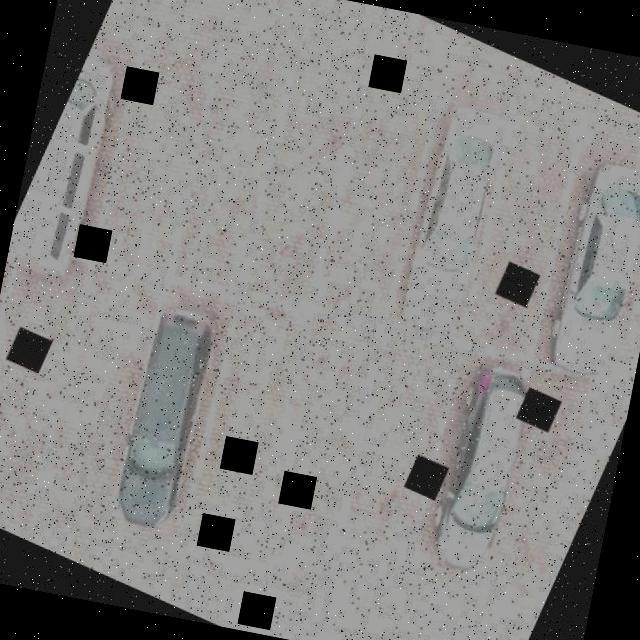space-empty: (53, 22, 260, 300), (200, 56, 405, 328), (272, 74, 473, 343), (426, 103, 624, 374), (224, 304, 419, 576), (132, 46, 328, 314), (296, 321, 494, 586), (148, 296, 346, 558), (5, 260, 198, 526), (452, 362, 630, 614), (0, 251, 126, 506), (511, 376, 632, 614), (567, 145, 640, 392), (0, 264, 48, 490)
space-occupied: (336, 61, 572, 377), (54, 268, 281, 574), (372, 342, 586, 624), (2, 32, 174, 302), (489, 102, 640, 407)
